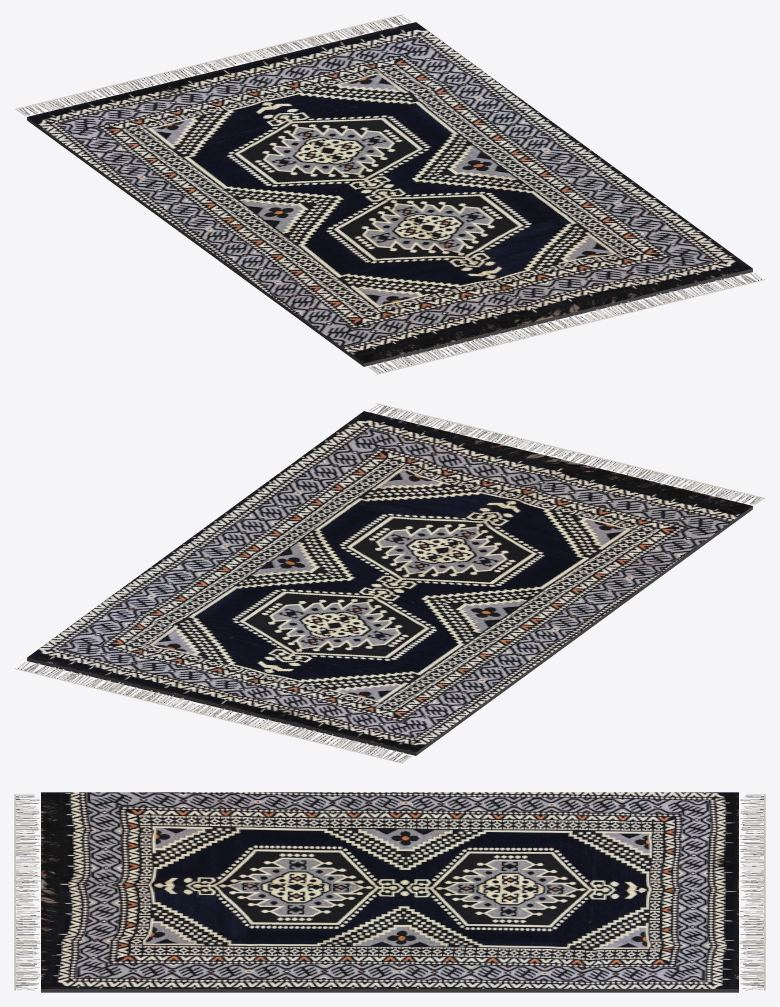
The picture shows the model from 3 angles, top to bottom: view 1: azimuth 30°, elevation 25°; view 2: azimuth 150°, elevation 25°; view 3: azimuth 270°, elevation 25°; orthographic projection. The views are drawn at different scales.
Visible parts, largest first — view 1: rug, fringeB, fringeA, side; view 2: rug, fringeA, fringeB, side; view 3: rug, fringeB, fringeA, side.
Part boxes in pixels (left/top/right/bottom): rug: left=27, top=22, right=752, bottom=363; fringeB: left=368, top=273, right=765, bottom=374; fringeA: left=14, top=14, right=411, bottom=115; side: left=27, top=117, right=752, bottom=366; rug: left=27, top=411, right=752, bottom=752; fringeA: left=14, top=662, right=411, bottom=763; fringeB: left=368, top=403, right=765, bottom=504; side: left=27, top=506, right=752, bottom=755; rug: left=41, top=792, right=738, bottom=988; fringeB: left=14, top=794, right=40, bottom=990; fringeA: left=739, top=794, right=765, bottom=990; side: left=41, top=989, right=738, bottom=992.
Size of what is drawn, in the model's own units: 1.2 by 0.0102 by 1.94.
2 materials, 2 textured.
